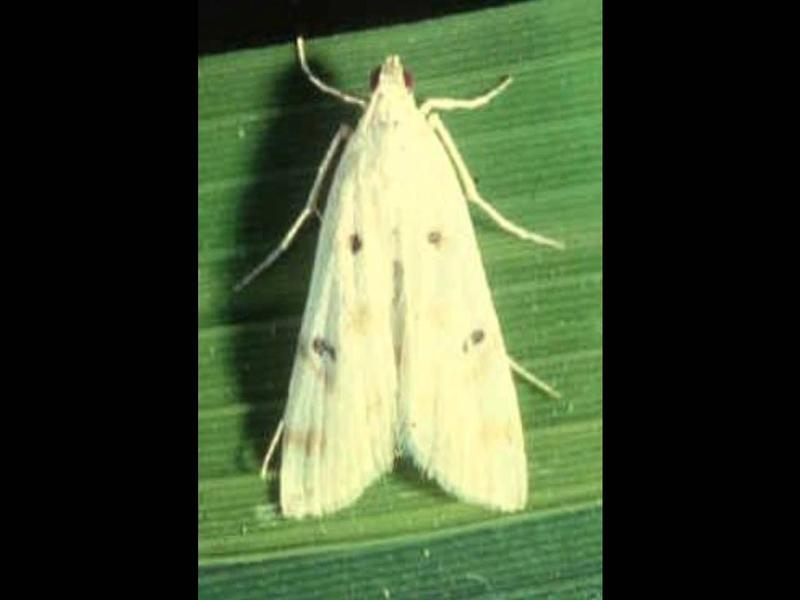Rice_case_worm: (261, 43, 566, 519)
